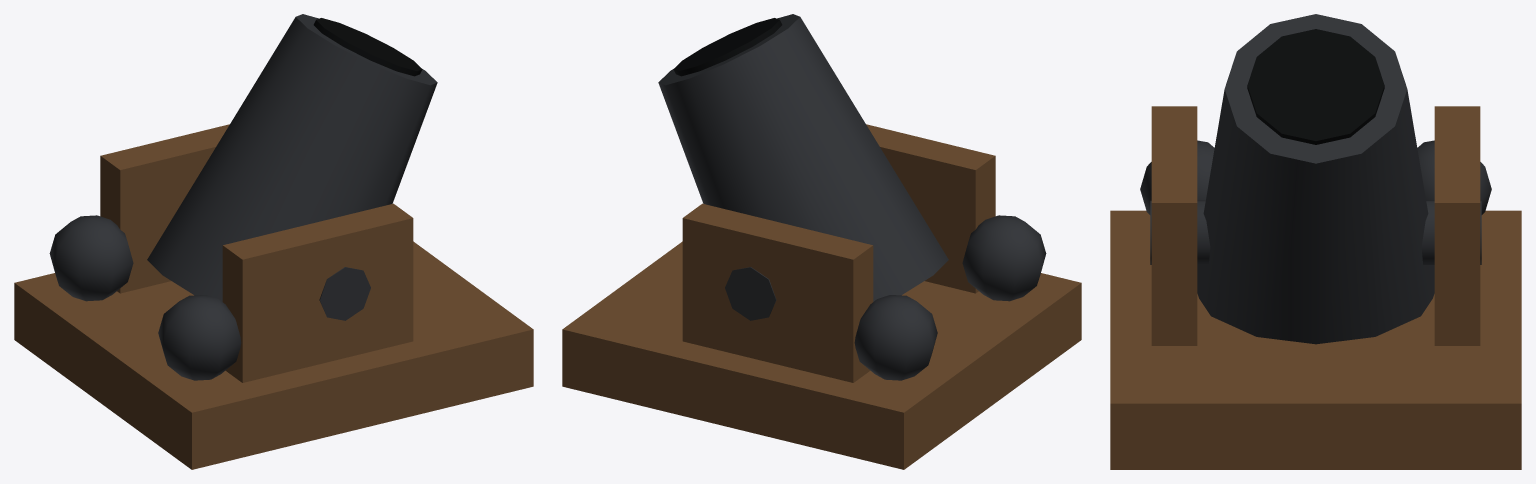
The model's file is mount-mortar.glb.
3 views of the same model, side by side, from view 1: azimuth 30°, elevation 25°; view 2: azimuth 150°, elevation 25°; view 3: azimuth 270°, elevation 25° (orthographic). The views are drawn at different scales.
Visible parts, largest first — view 1: Mesh_Bed, Mesh_Barrel, Mesh_Support1, Mesh_Support0, Mesh_Bomb1, Mesh_Bomb0, Mesh_Bore, Mesh_Trunnion; view 2: Mesh_Bed, Mesh_Barrel, Mesh_Support0, Mesh_Support1, Mesh_Bomb0, Mesh_Bomb1, Mesh_Bore, Mesh_Trunnion; view 3: Mesh_Bed, Mesh_Barrel, Mesh_Bore, Mesh_Support0, Mesh_Support1, Mesh_Trunnion, Mesh_Bomb0, Mesh_Bomb1.
Boxes of the visible parts, x1,y1,x2,y2 form: Mesh_Bed: (14,241,533,469); Mesh_Barrel: (147,14,437,301); Mesh_Support1: (222,203,413,382); Mesh_Support0: (100,124,229,293); Mesh_Bomb1: (49,215,133,301); Mesh_Bomb0: (158,295,241,380); Mesh_Bore: (313,18,422,76); Mesh_Trunnion: (319,267,370,320); Mesh_Bed: (562,241,1081,469); Mesh_Barrel: (658,14,948,301); Mesh_Support0: (682,203,873,382); Mesh_Support1: (866,124,995,293); Mesh_Bomb0: (962,215,1046,301); Mesh_Bomb1: (854,295,937,380); Mesh_Bore: (673,18,782,76); Mesh_Trunnion: (725,267,776,320); Mesh_Bed: (1110,210,1521,469); Mesh_Barrel: (1197,14,1434,344); Mesh_Bore: (1247,29,1384,144); Mesh_Support0: (1434,106,1480,345); Mesh_Support1: (1151,106,1197,345); Mesh_Trunnion: (1150,200,1481,264); Mesh_Bomb0: (1140,140,1214,214); Mesh_Bomb1: (1417,140,1491,214).
Size of the model in its own units: 2 by 1.83 by 1.8.
